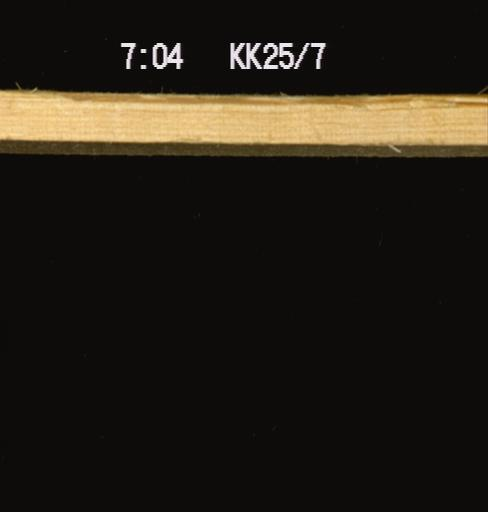split: (427, 92, 486, 110)
wave: (60, 92, 411, 114)
